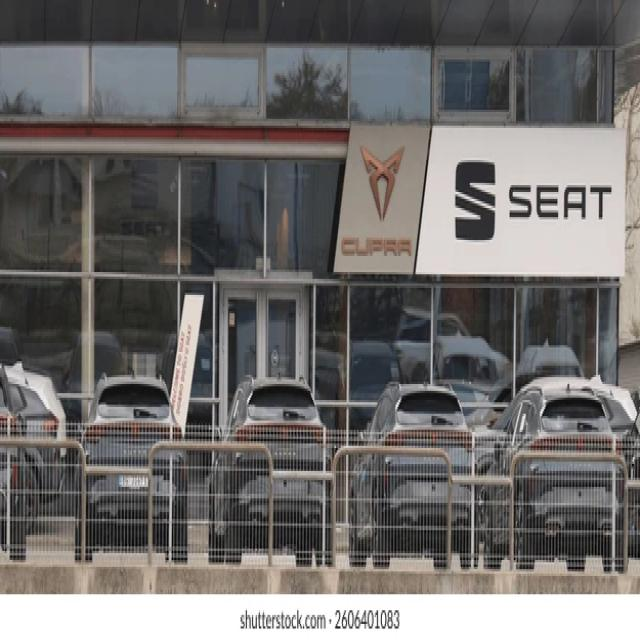cupra: (360, 146, 404, 222)
seat: (455, 161, 496, 241)
